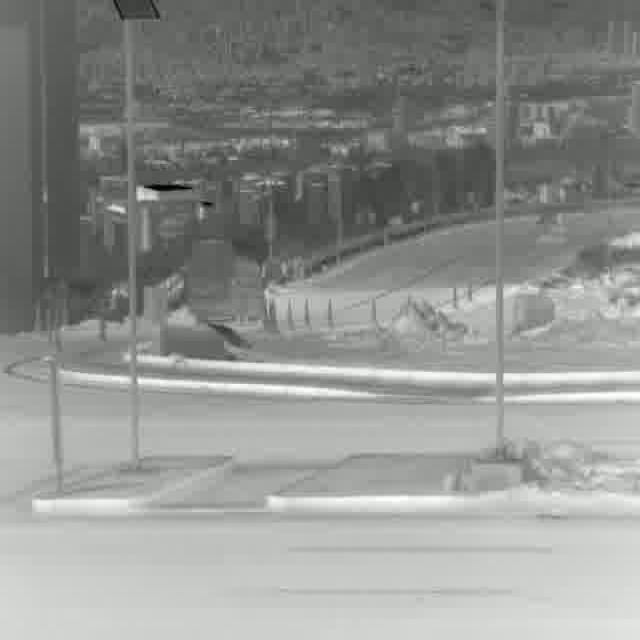Car: (192, 241, 266, 323), (533, 206, 569, 243)
